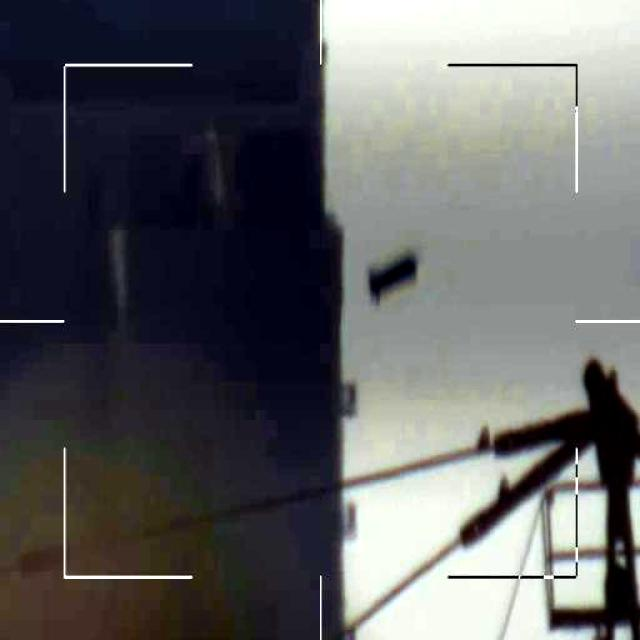bird: (366, 249, 419, 301)
